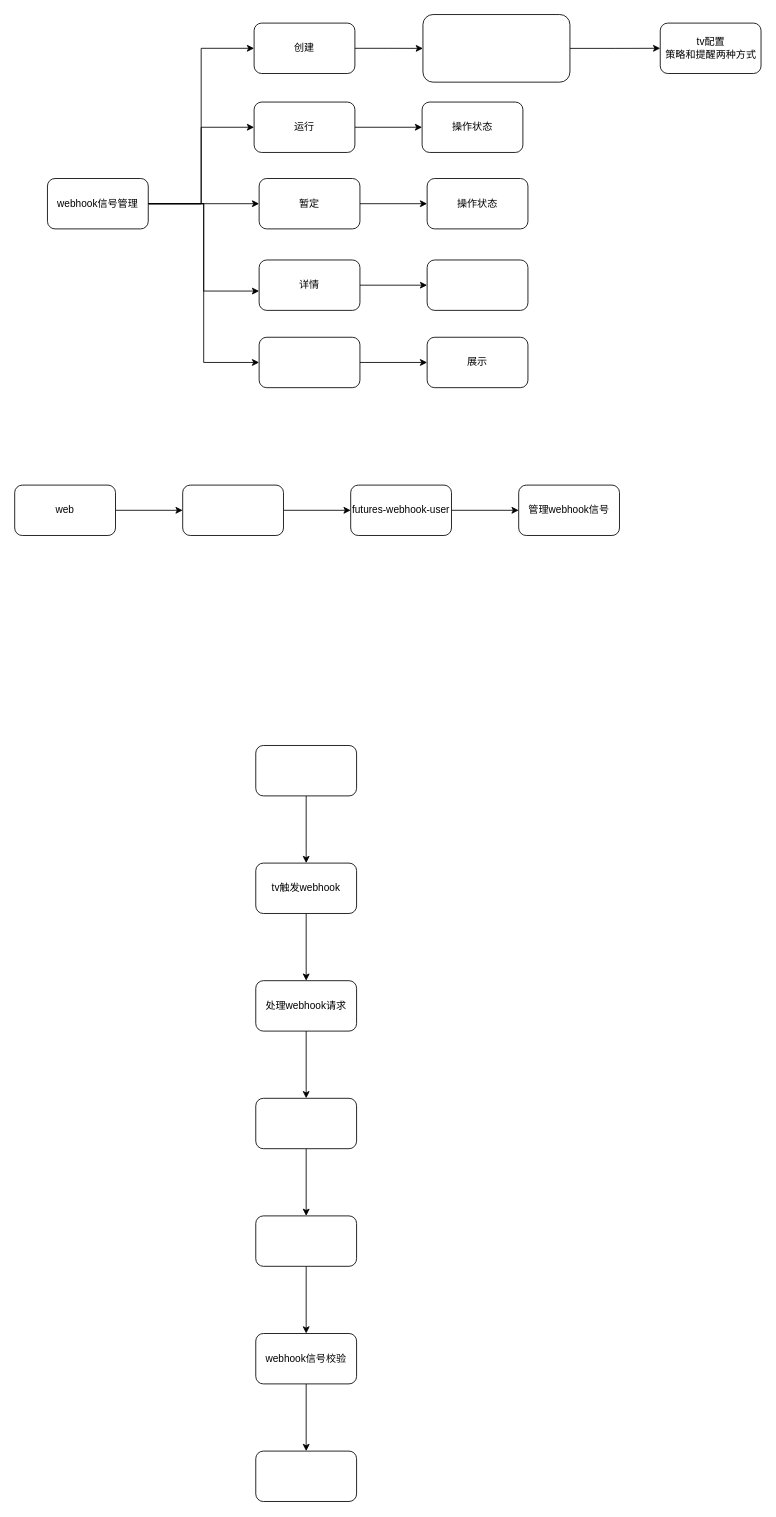
Some shapes in this 776 by 1517 pixel diagram are drawn without their labels. Here are the shapes that lost their labels. From the top down, the centre of each, then its label:
At (x=496, y=48): "tv参数 token 令牌 信号Id 下单常用参数 webhook地址".
At (x=477, y=284): "信号详情 及查询信号下单的委托订单等".
At (x=309, y=362): "列表".
At (x=233, y=510): "futures-gateway-user".
At (x=306, y=770): "开始".
At (x=306, y=1123): "参数校验".
At (x=306, y=1240): "幂等性处理 tv timestamp毫秒".
